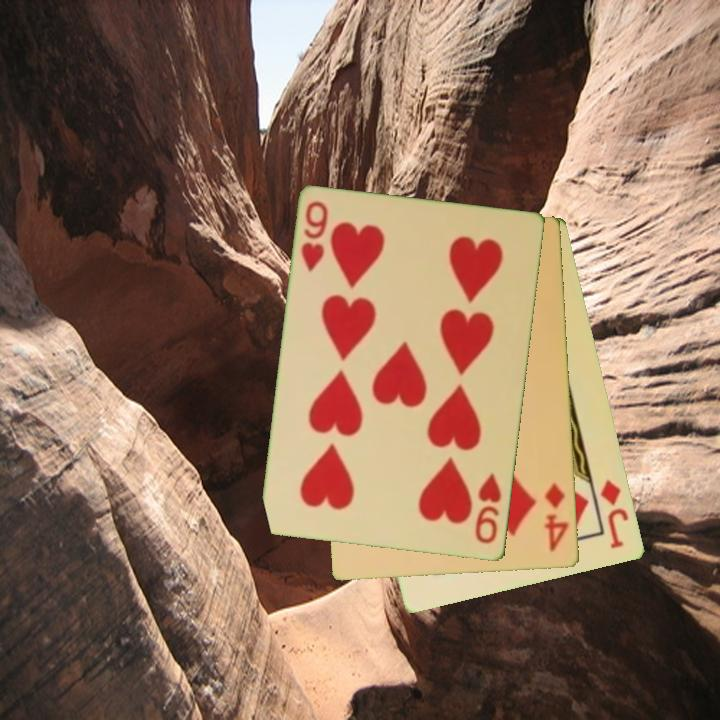4d: (541, 480, 572, 555)
9h: (297, 198, 331, 275), (472, 470, 505, 547)
Jd: (597, 476, 632, 552)
